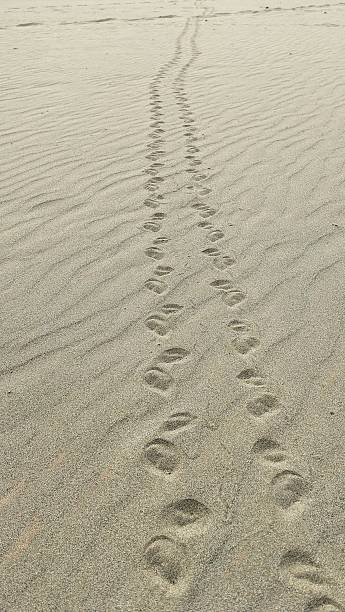animal_foot_print: (144, 535, 187, 586), (280, 549, 326, 591), (271, 470, 310, 508), (143, 438, 180, 475), (162, 498, 208, 526), (252, 437, 287, 463), (246, 393, 279, 416), (143, 366, 172, 391), (160, 411, 195, 431), (304, 596, 343, 611), (157, 347, 190, 364), (236, 367, 264, 386), (231, 335, 258, 354), (145, 313, 168, 335), (222, 289, 245, 306), (144, 277, 167, 294), (227, 318, 250, 333), (213, 254, 235, 269), (161, 303, 183, 315), (210, 279, 232, 291), (144, 246, 164, 259), (143, 218, 160, 231), (207, 229, 223, 241), (202, 247, 220, 257), (154, 265, 172, 275), (195, 185, 211, 196), (199, 207, 216, 217), (144, 197, 159, 208), (197, 220, 213, 229), (153, 236, 168, 244), (151, 212, 165, 220)
